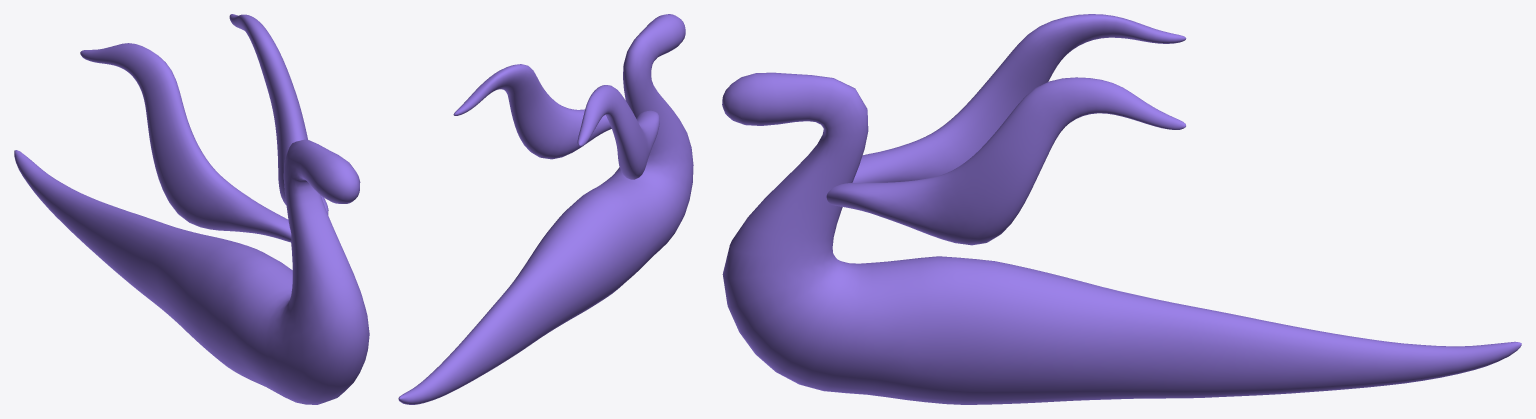
Rendered from Body_Dragon.fbx.
The picture shows the model from 3 angles, left to right: view 1: azimuth 30°, elevation 25°; view 2: azimuth 150°, elevation 25°; view 3: azimuth 270°, elevation 25°; orthographic projection. The views are drawn at different scales.
Visible parts, largest first — view 1: Body_L; view 2: Body_L; view 3: Body_L.
Boxes of the visible parts, x1,y1,x2,y2 form: Body_L: (14,14,369,404); Body_L: (398,14,693,404); Body_L: (722,14,1521,404).
Size of the model in its own units: 57.11 by 105 by 215.
